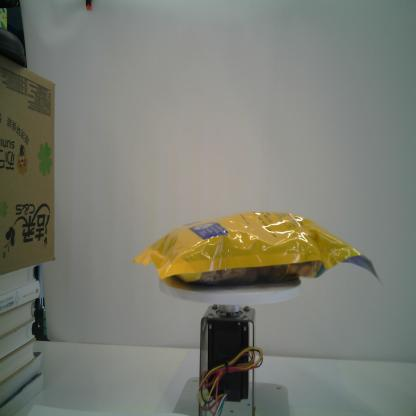Dried Food: (129, 207, 384, 290)
